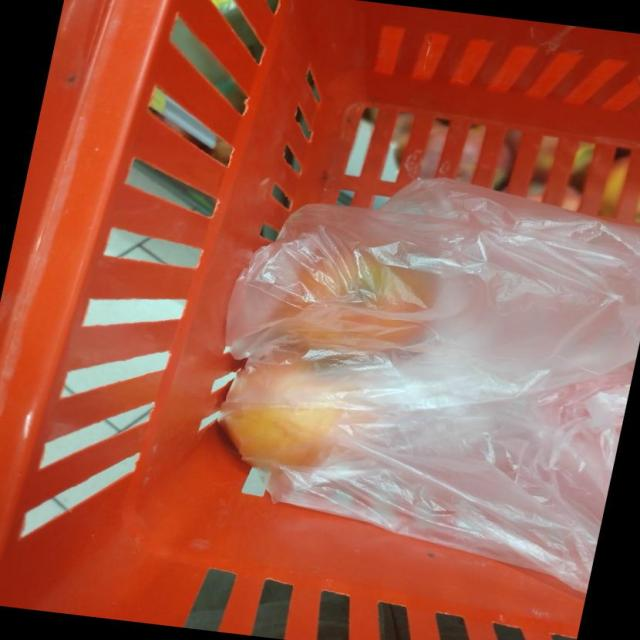apple: (208, 177, 637, 507), (149, 235, 470, 640)
